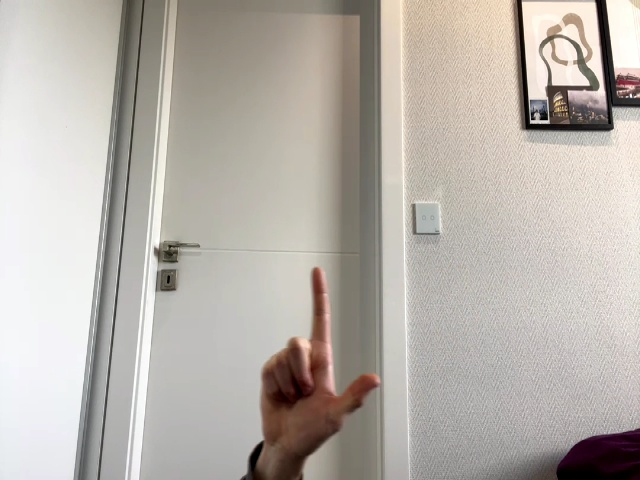L: (261, 268, 381, 460)
